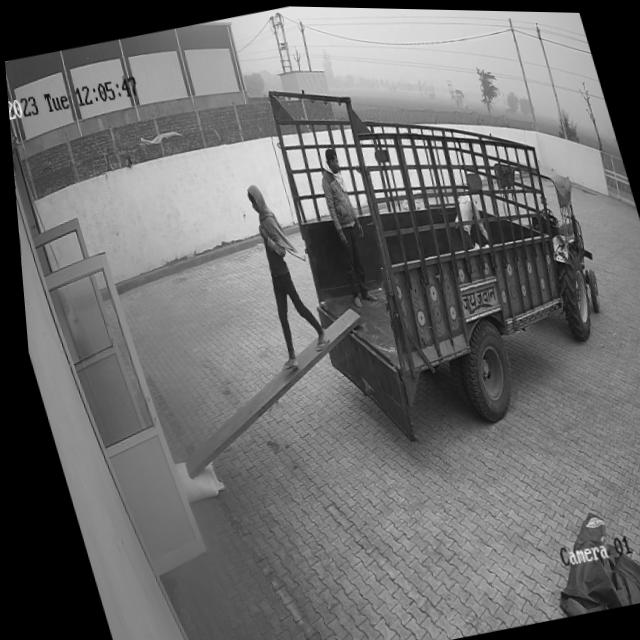sack: (167, 454, 218, 502)
